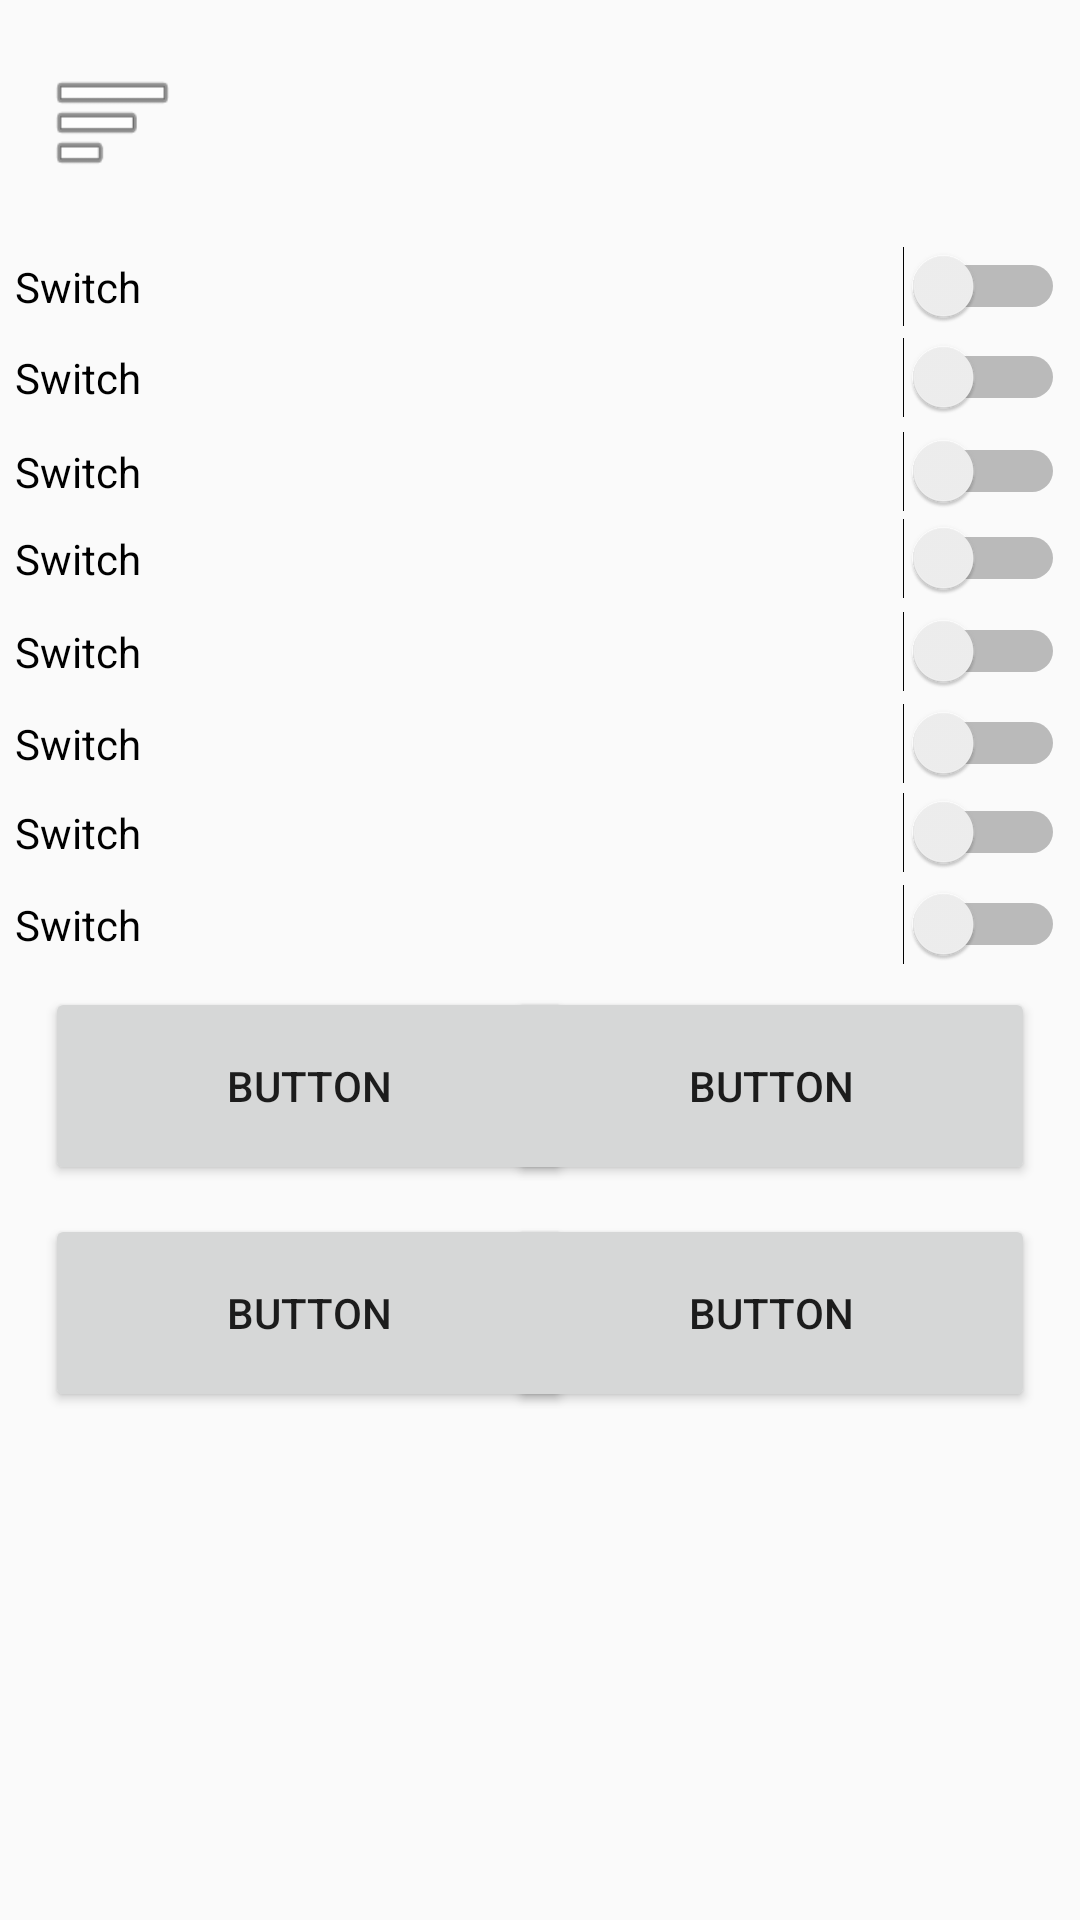

Where icons sit on this 1080px x 1920px app screen, as [x1,y1,x2,y2]:
sort by size: [57,82,168,163]
